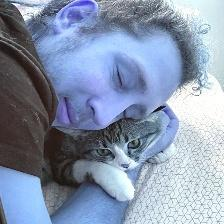kedo: (48, 104, 175, 202)
